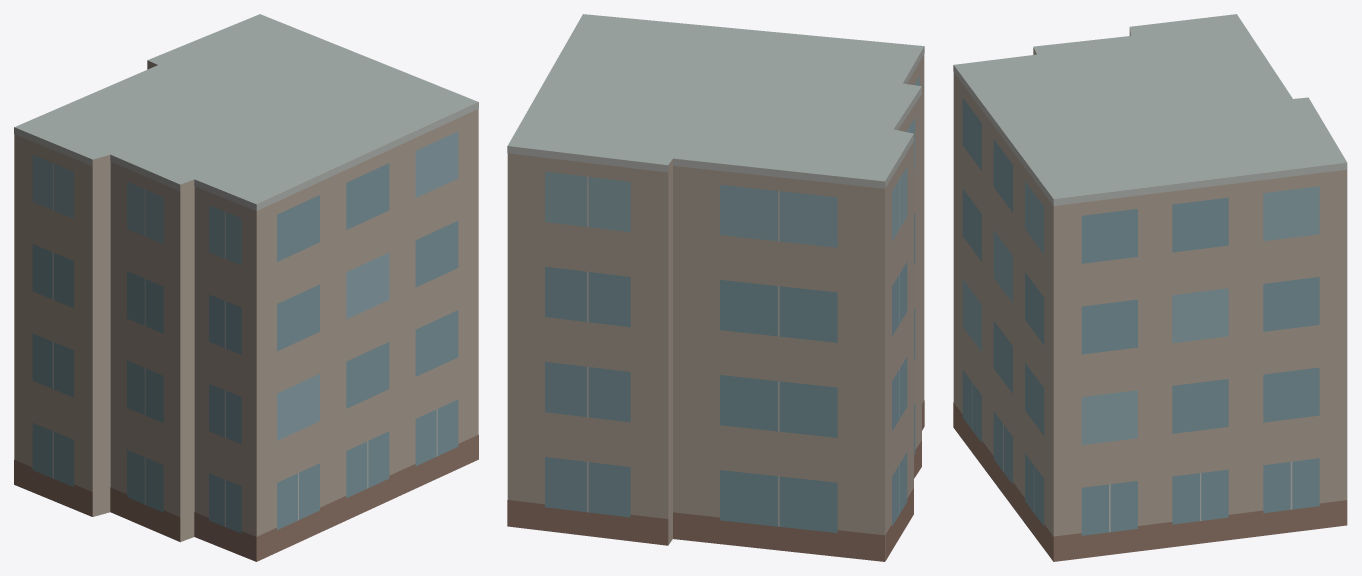
Rendered from survey-upis-32919060.glb.
3 views of the same model, side by side, from view 1: azimuth 30°, elevation 25°; view 2: azimuth 150°, elevation 25°; view 3: azimuth 270°, elevation 25° (orthographic). The views are drawn at different scales.
Visible parts, largest first — view 1: survey-upis-32919060.tmp; view 2: survey-upis-32919060.tmp; view 3: survey-upis-32919060.tmp.
Boxes of the visible parts, x1,y1,x2,y2 form: survey-upis-32919060.tmp: (14, 14, 478, 561); survey-upis-32919060.tmp: (507, 14, 924, 561); survey-upis-32919060.tmp: (953, 14, 1347, 561).
Size of the model in its own units: 14.03 by 12.8 by 12.61.
